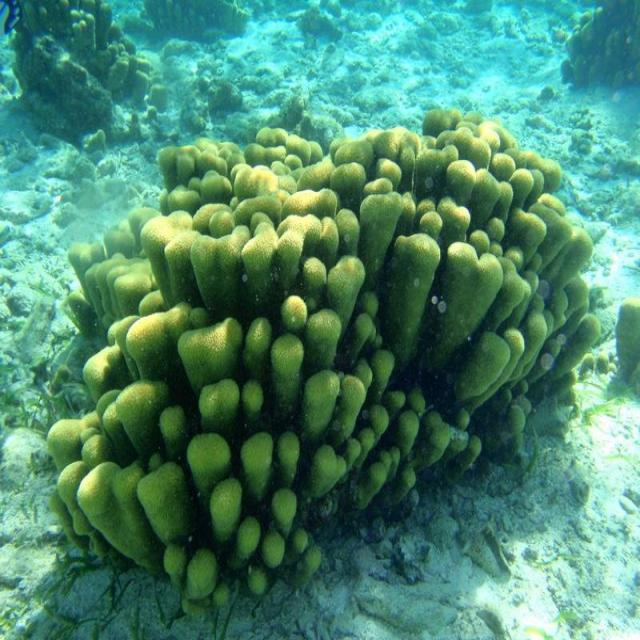Coral: (46, 108, 600, 620), (8, 0, 168, 110), (560, 0, 640, 97), (611, 282, 640, 388)
